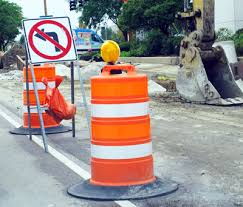barrel: (92, 66, 155, 184), (22, 63, 62, 128)
